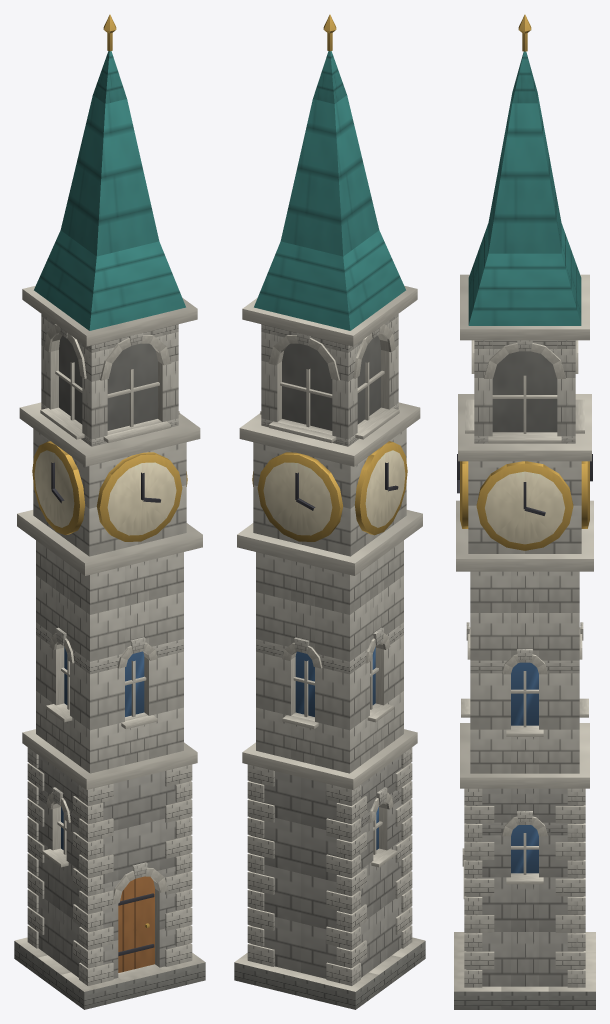
File: civ_clocktower_01.glb
3 views of the same model, side by side, from view 1: azimuth 30°, elevation 25°; view 2: azimuth 150°, elevation 25°; view 3: azimuth 270°, elevation 25° (orthographic).
Parts seen in each view (by area): view 1: civ_clocktower_01; view 2: civ_clocktower_01; view 3: civ_clocktower_01.
Part boxes in pixels (<box>): civ_clocktower_01: <box>14,14,205,1009</box>; civ_clocktower_01: <box>234,14,425,1009</box>; civ_clocktower_01: <box>454,14,595,1009</box>.
Bounding box in the file's own units: 3.52 × 26.5 × 3.52.
1 material, 1 textured.
